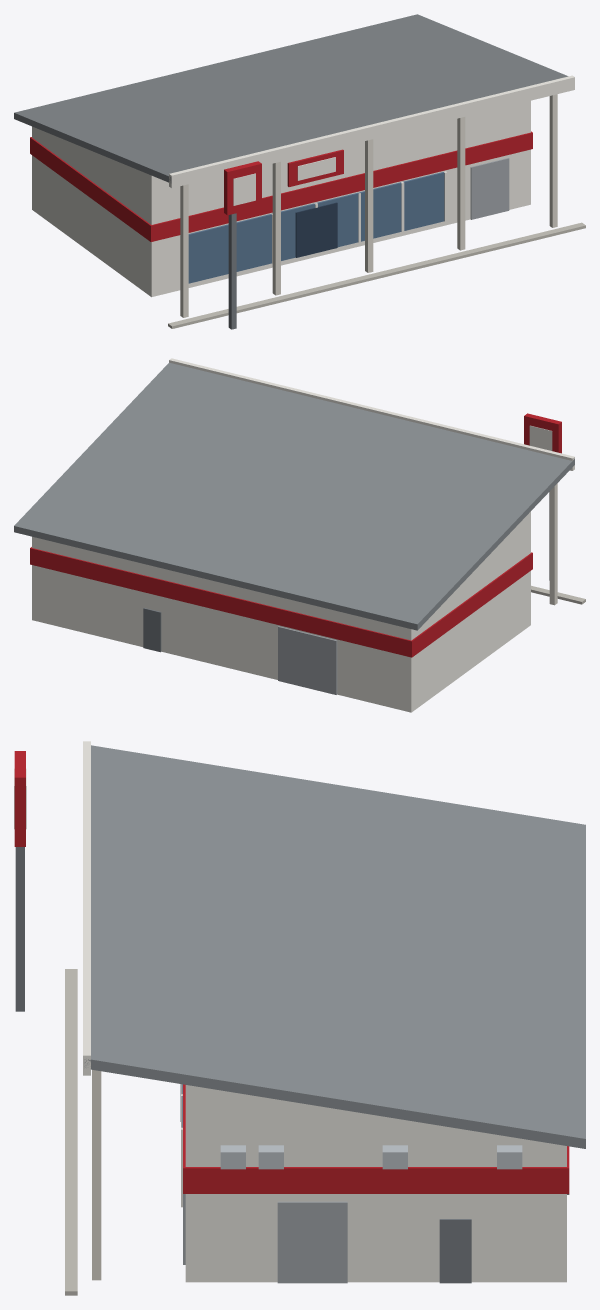
The model's file is LM_Dali.glb.
3 renders of one model, top to bottom at view 1: azimuth 30°, elevation 25°; view 2: azimuth 150°, elevation 25°; view 3: azimuth 270°, elevation 25°, orthographic. The views are drawn at different scales.
Visible parts, largest first — view 1: LM_Dali; view 2: LM_Dali; view 3: LM_Dali.
Boxes of the visible parts, left/top/right/bottom form: LM_Dali: left=14, top=14, right=585, bottom=329; LM_Dali: left=14, top=358, right=585, bottom=712; LM_Dali: left=14, top=741, right=585, bottom=1295.
Size of the model in its own units: 24 by 8.8 by 18.
